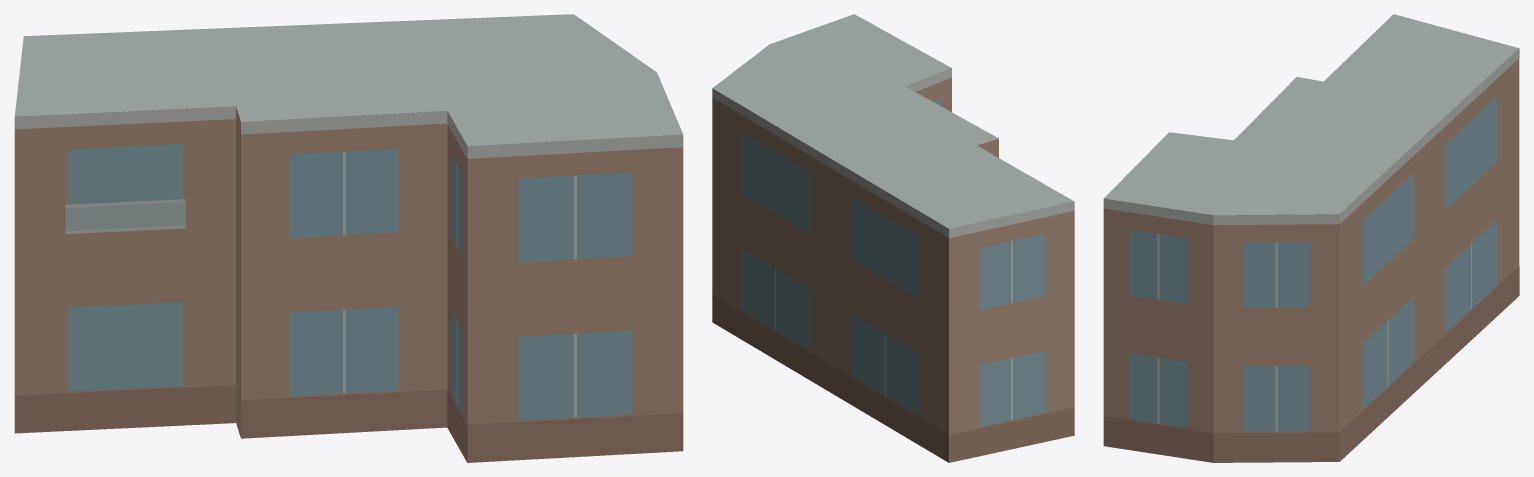
The model's file is survey-upis-32970541.glb.
3 views of the same model, side by side, from view 1: azimuth 30°, elevation 25°; view 2: azimuth 150°, elevation 25°; view 3: azimuth 270°, elevation 25° (orthographic). The views are drawn at different scales.
Parts seen in each view (by area): view 1: survey-upis-32970541.tmp; view 2: survey-upis-32970541.tmp; view 3: survey-upis-32970541.tmp.
Boxes of the visible parts, left/top/right/bottom form: survey-upis-32970541.tmp: left=14, top=14, right=683, bottom=462; survey-upis-32970541.tmp: left=712, top=14, right=1074, bottom=462; survey-upis-32970541.tmp: left=1103, top=14, right=1519, bottom=462.
Bounding box in the file's own units: 10.65 × 6.1 × 9.29.
